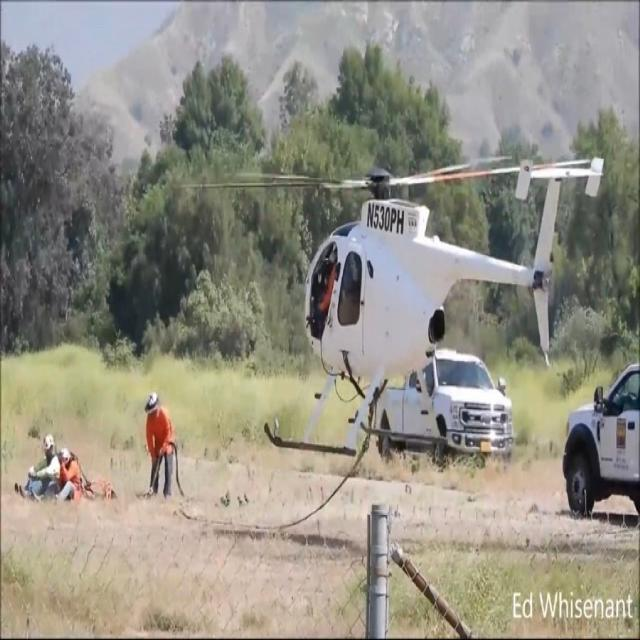CIV_HELO: (262, 165, 603, 461)
